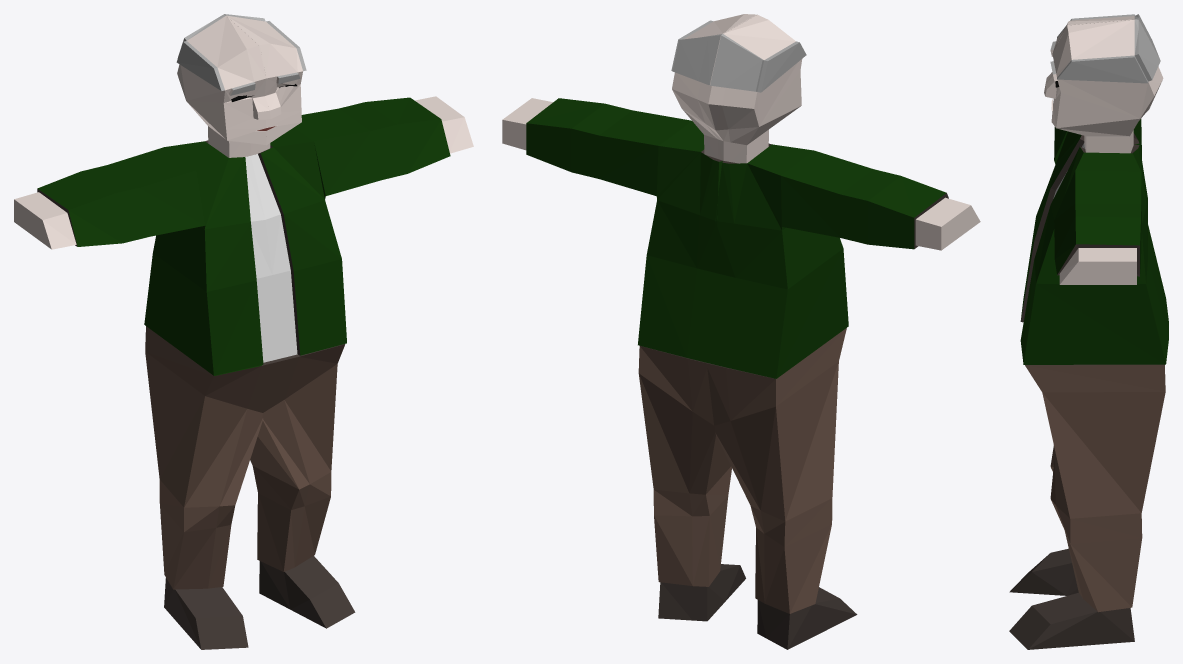
The model's file is ElijahVer1.fbx.
3 views of the same model, side by side, from view 1: azimuth 30°, elevation 25°; view 2: azimuth 150°, elevation 25°; view 3: azimuth 270°, elevation 25° (orthographic). The views are drawn at different scales.
Parts seen in each view (by area): view 1: pCube1; view 2: pCube1; view 3: pCube1.
Part boxes in pixels (box(x1,y1,x2,y2)): pCube1: box(14, 14, 473, 649); pCube1: box(502, 14, 980, 649); pCube1: box(1009, 14, 1168, 649).
Bounding box in the file's own units: 4.75 × 6.21 × 1.52.
